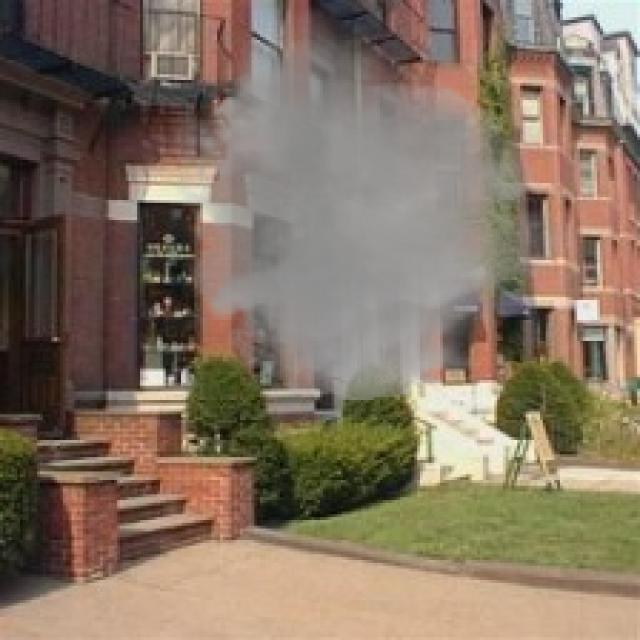smoke: (154, 6, 580, 411)
